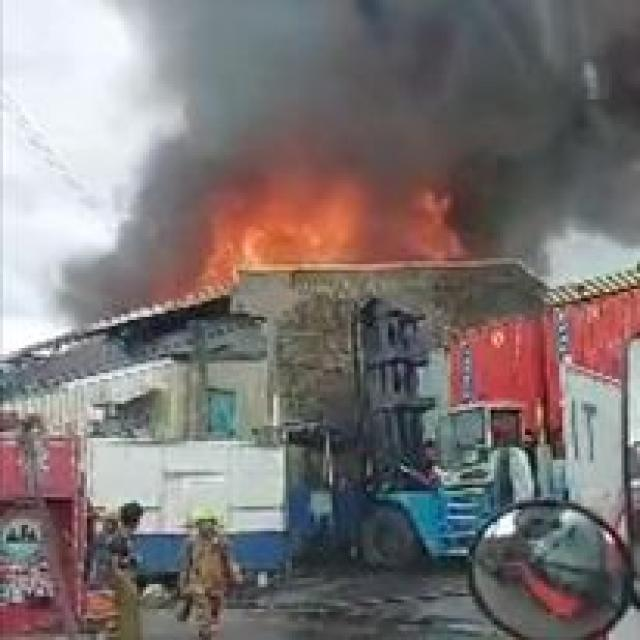Fire: (171, 162, 473, 299)
Smoke: (133, 0, 640, 248), (60, 231, 195, 316)
